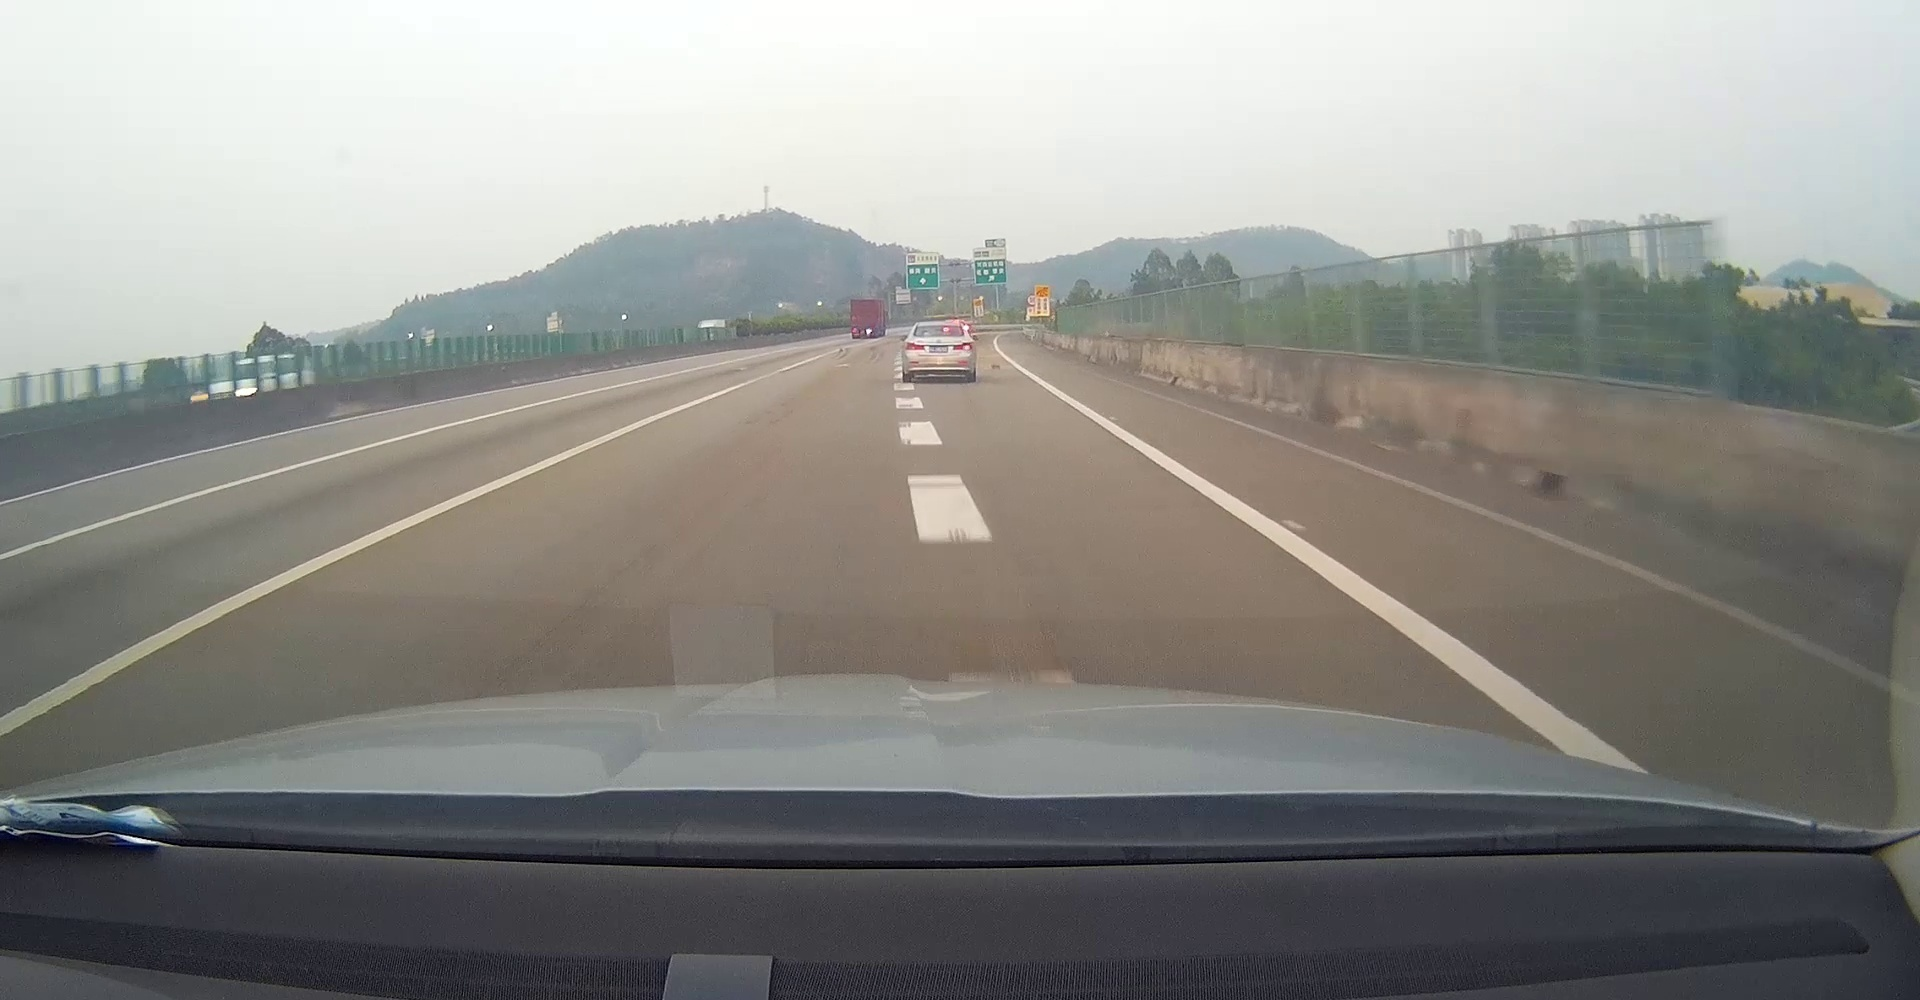L_light: (907, 341, 924, 350)
R_light: (952, 341, 971, 350)
T_light: (933, 332, 945, 336)
day-right: (902, 320, 977, 382)
